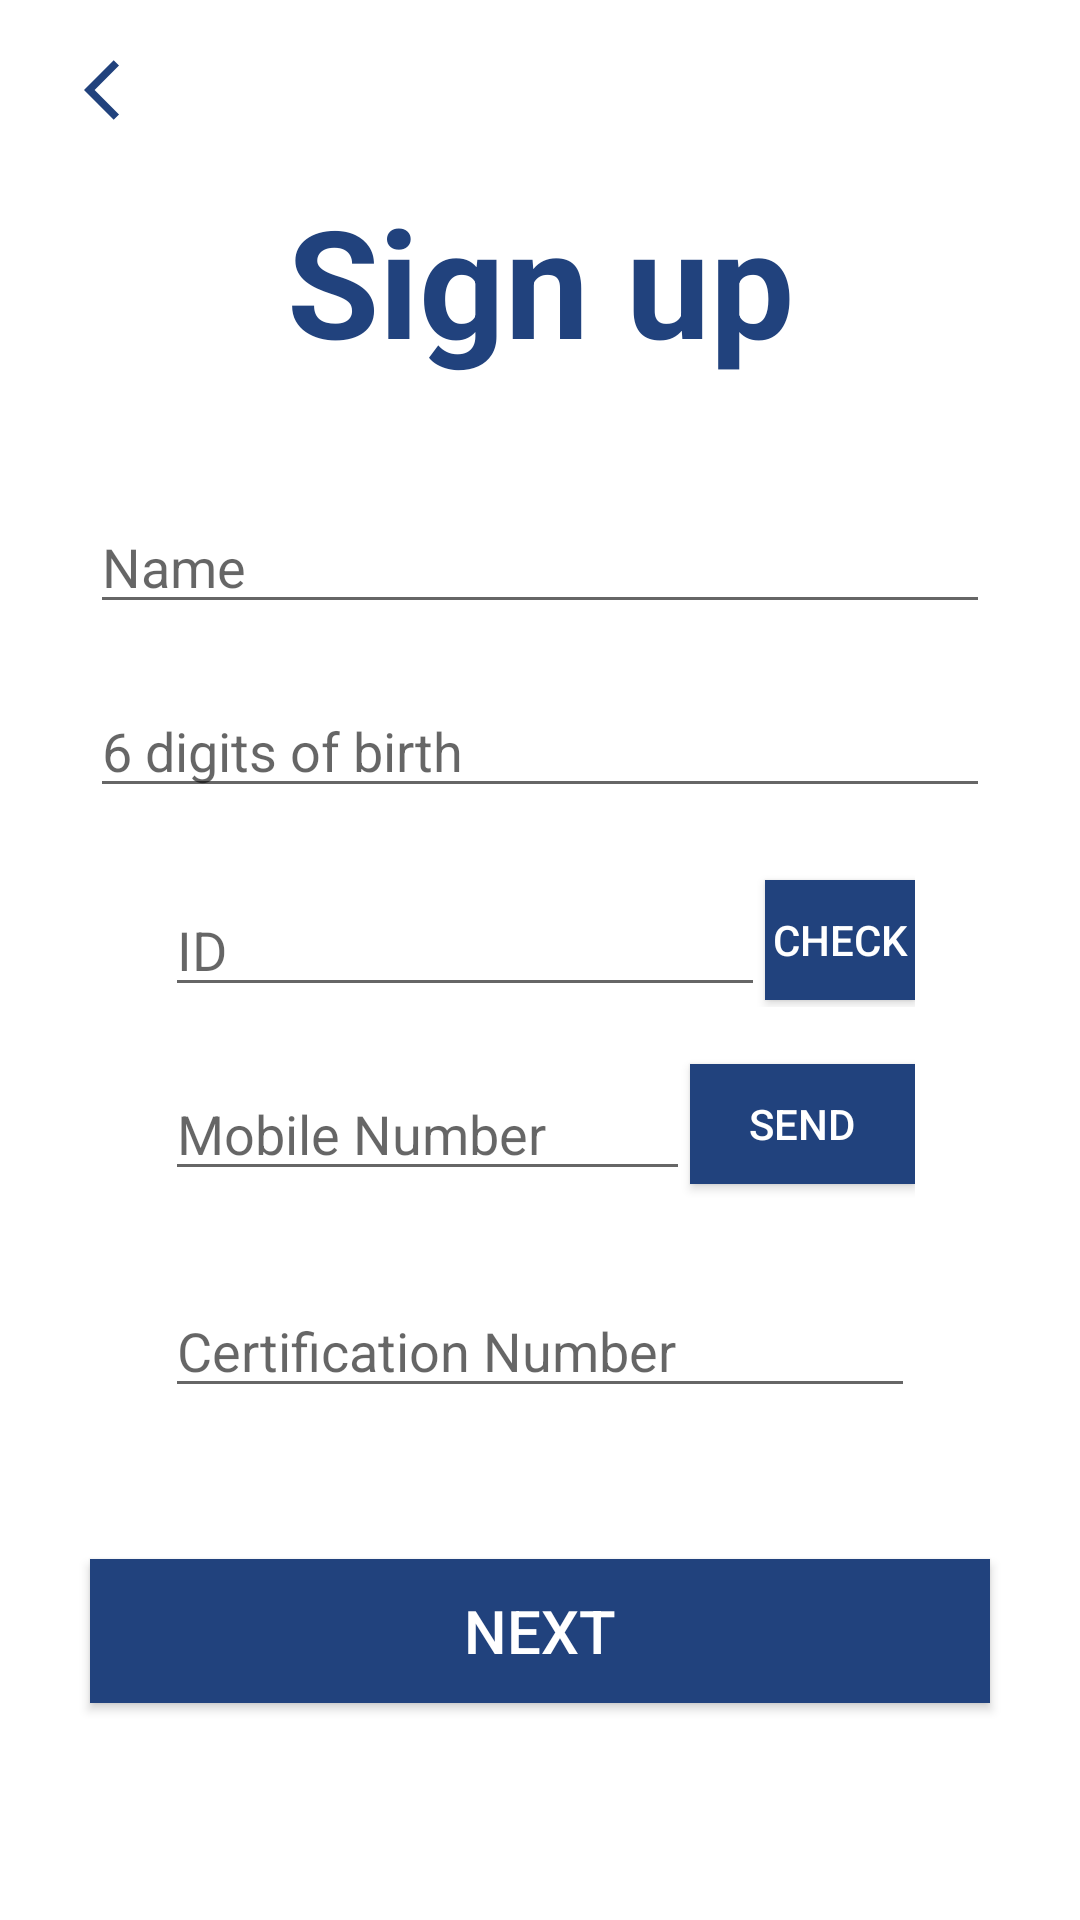

Icons on this 1080 × 1920 Android screen, each with the point to tap as [x,y]:
arrow back: [101,90]
